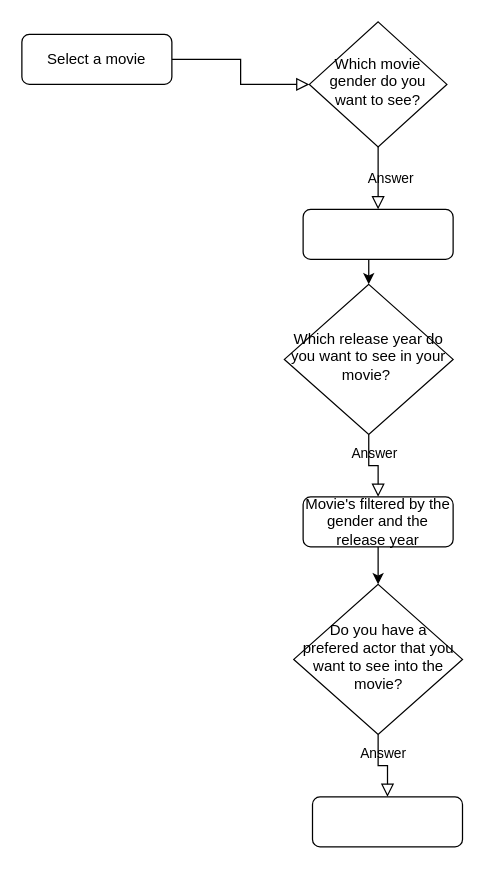
The diagram is 485 pixels wide and 880 high, and some of its shapes have lost their labels. Each missing label, with the centre of its shape:
Movie's filtered by the gender: (377,233)
Movie's filtered by the gender and the release year, and the common actor: (386,821)
